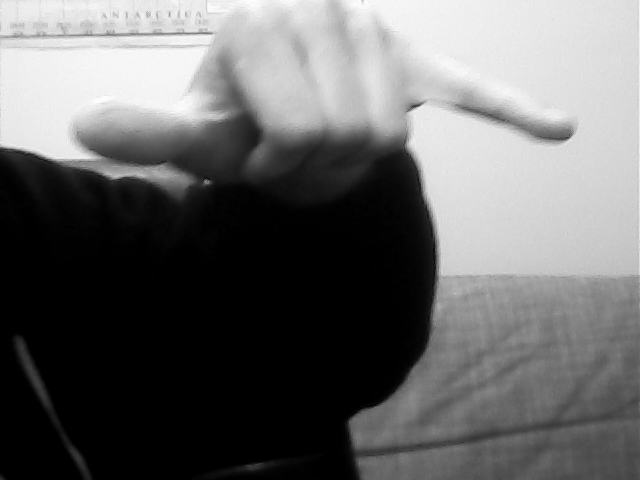aloha: (73, 1, 578, 188)
